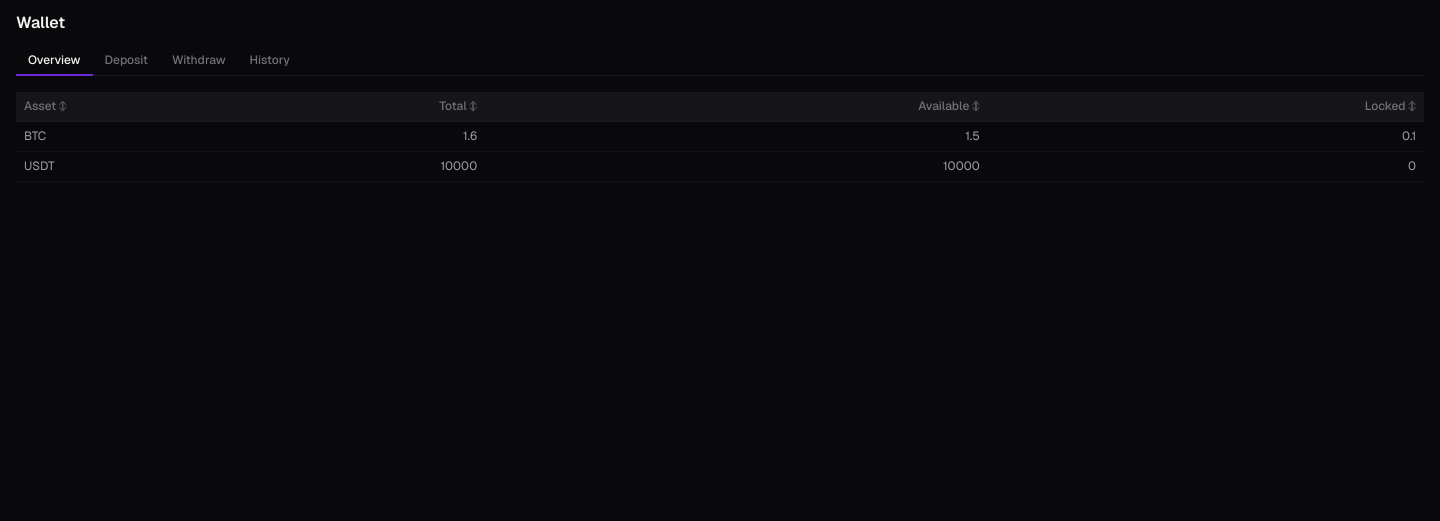
it: WalletPage › withdrawal form validates missing address
The image size is (1440, 521).
Click the tab "Withdraw": click(199, 61) [160,46,238,76]
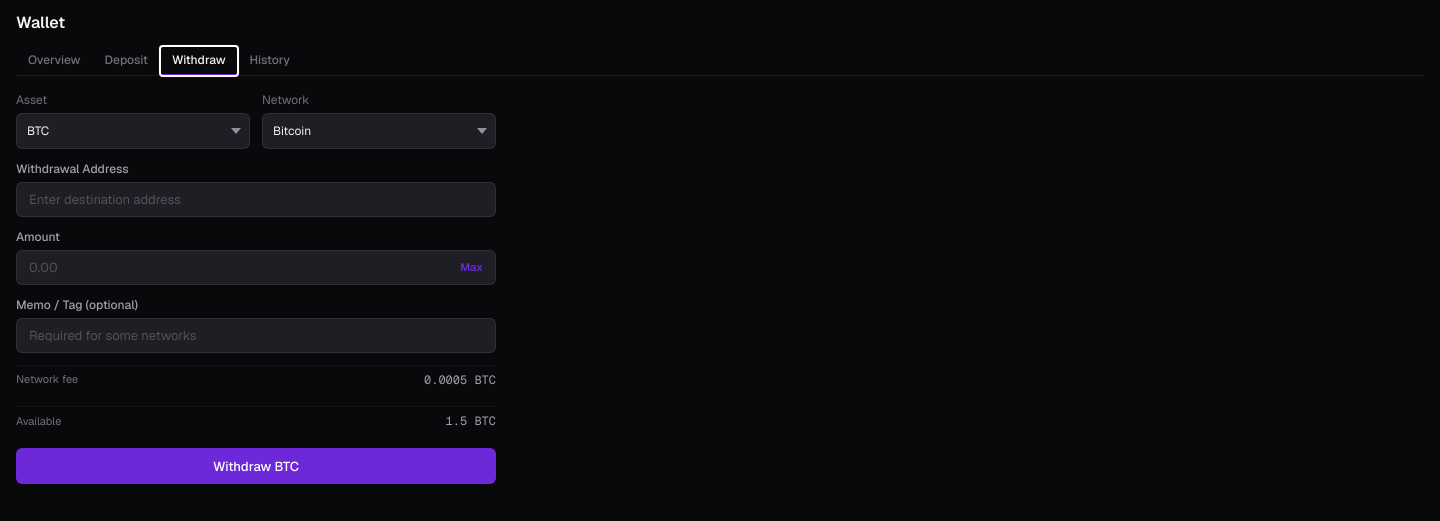
Now the text "Withdrawal Address" is shown, box [16,161,129,177]
In the field with placeholder "0.00": (233, 267) [17,251,448,284], type "0.1"
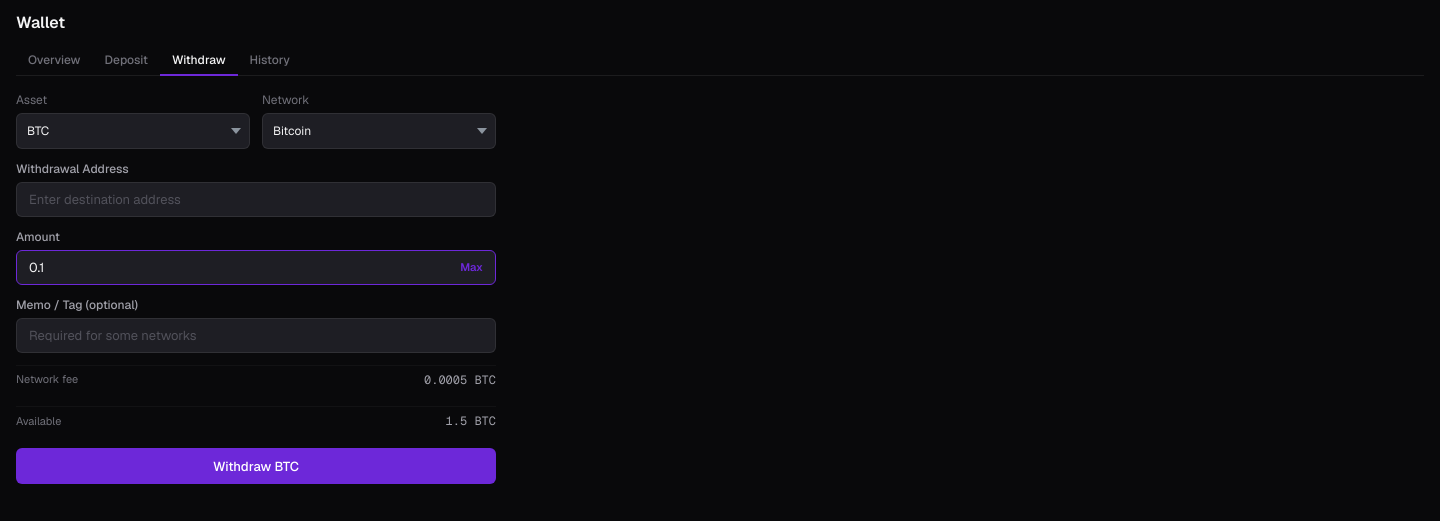
Click the button "Withdraw BTC": click(256, 466) [16,448,496,484]
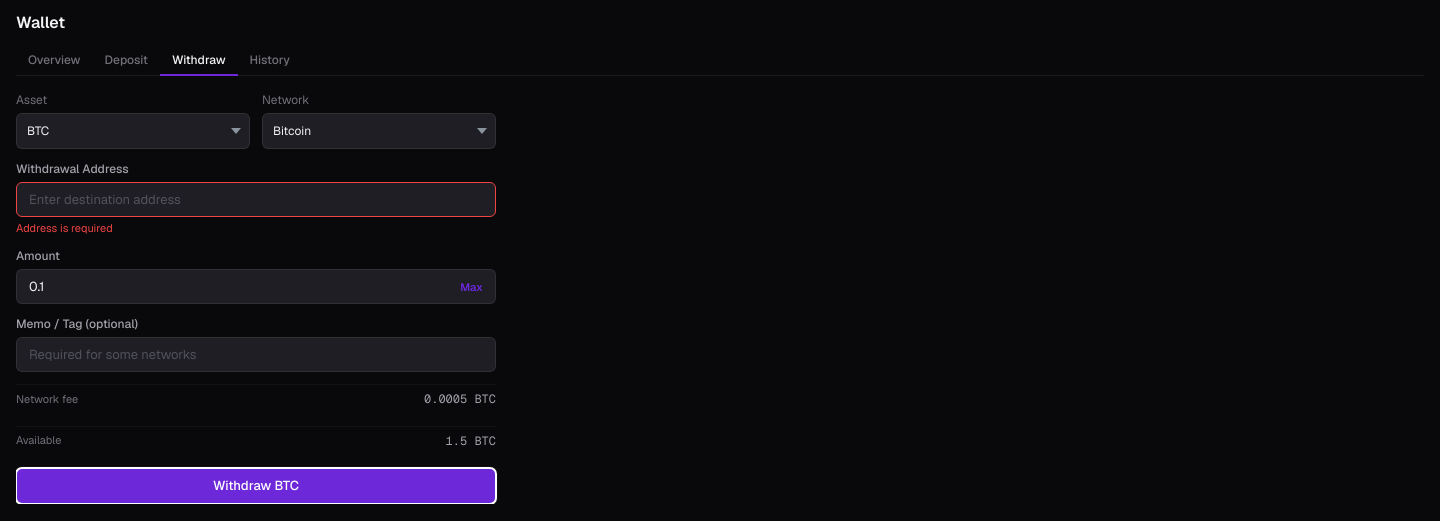
Now the text "Address is required" is shown, box [16,221,113,235]
